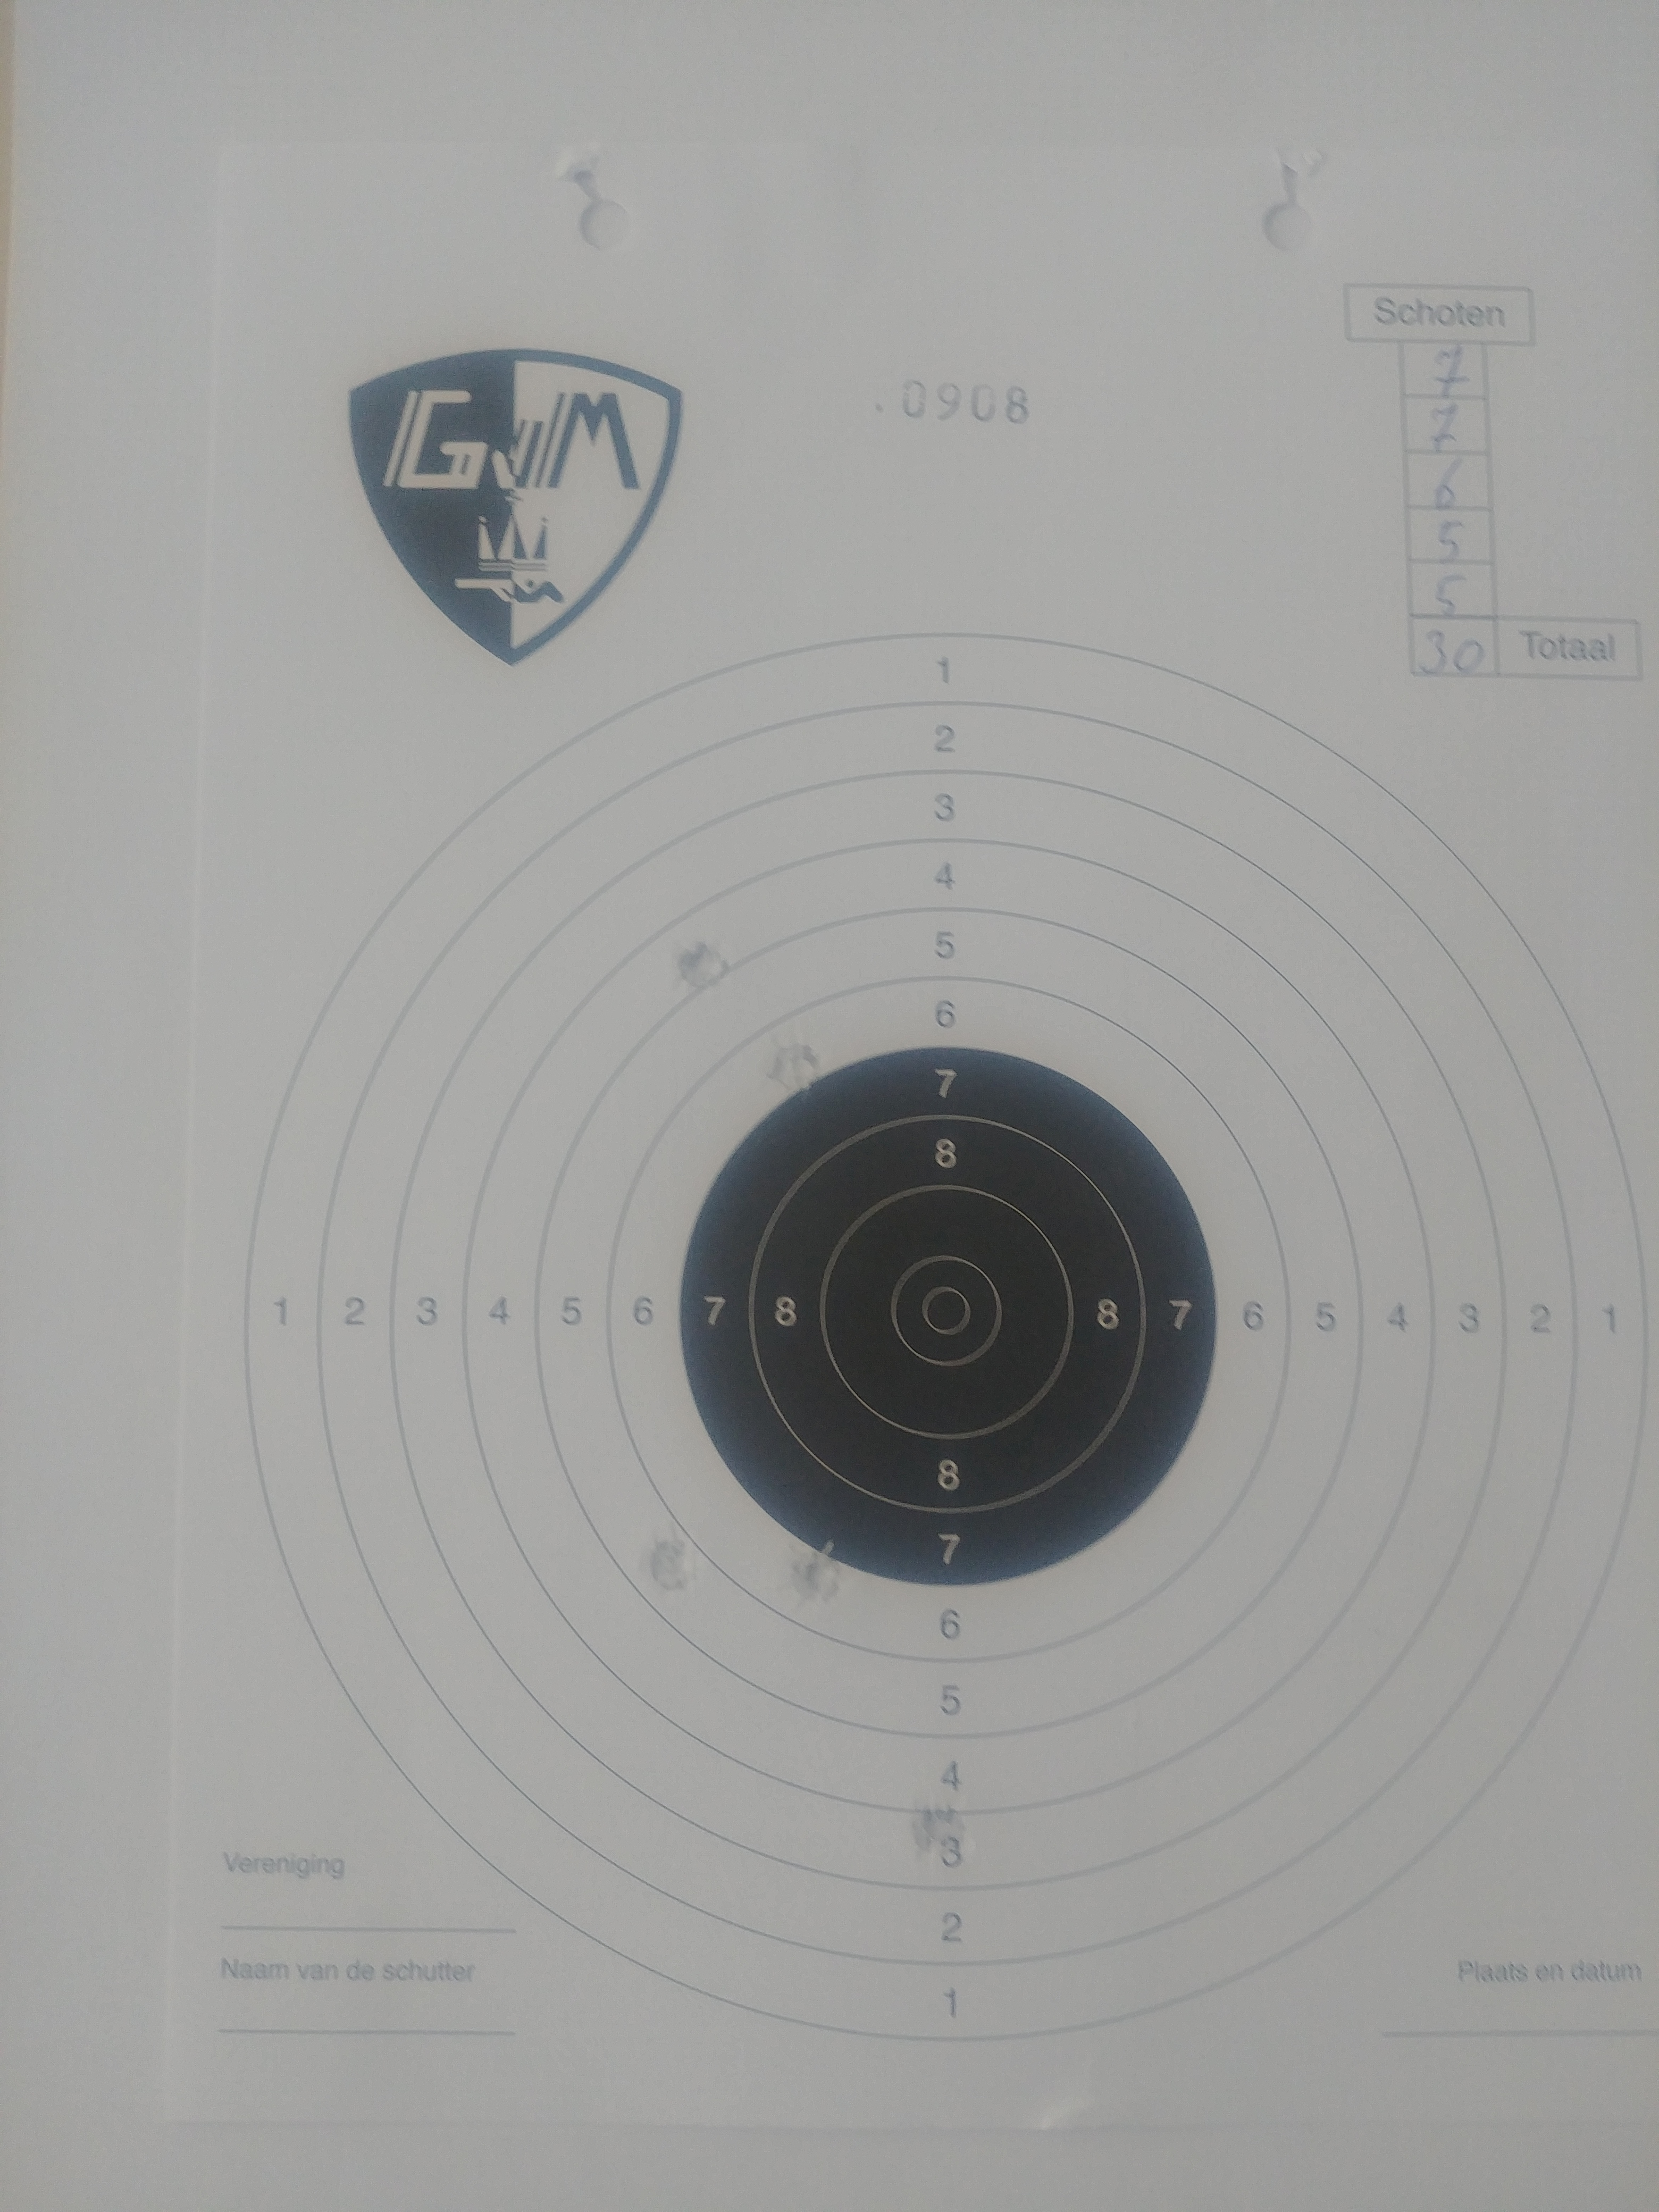center: (676, 1043, 1216, 1587)
out: (242, 631, 1647, 2041)
shot: (638, 1527, 702, 1597), (913, 1796, 971, 1865), (786, 1541, 838, 1611), (767, 1033, 826, 1094), (673, 939, 728, 991)
target: (890, 1254, 1004, 1367)
